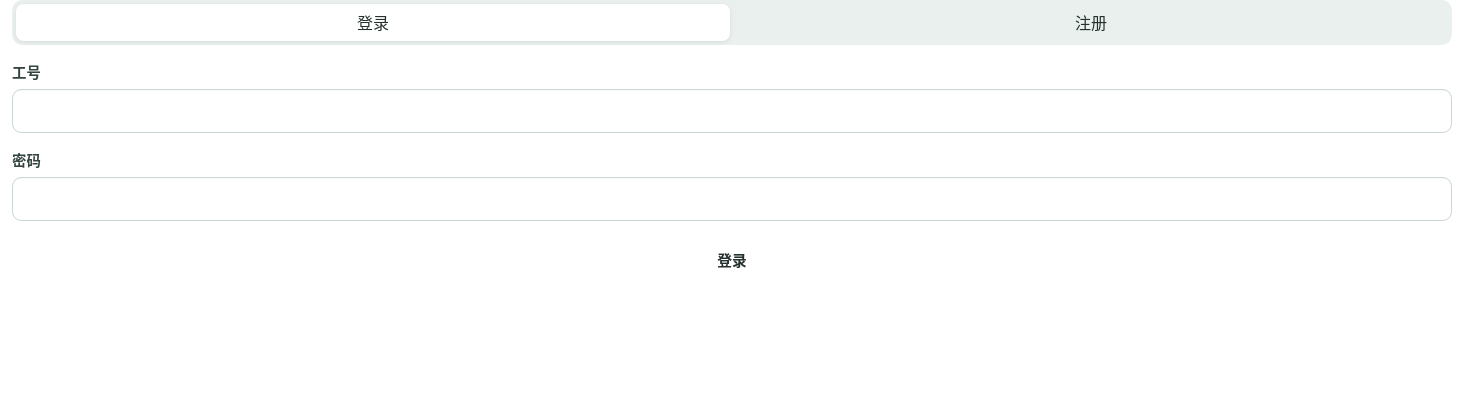
Test case: AuthAccessPanel › switches to login and pre-fills the employee ID after registration
Step 1. Click the tab "注册" → [1091, 22], box x1=734 y1=4 x2=1448 y2=41
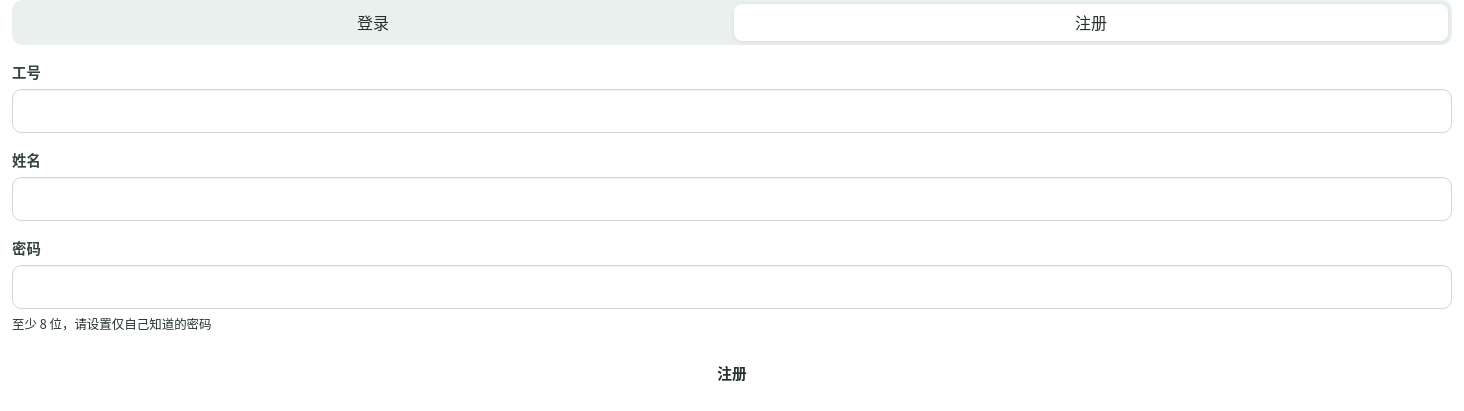
Step 2. Type "emp001" into the field labelled "工号" → [732, 111], box x1=12 y1=89 x2=1452 y2=133
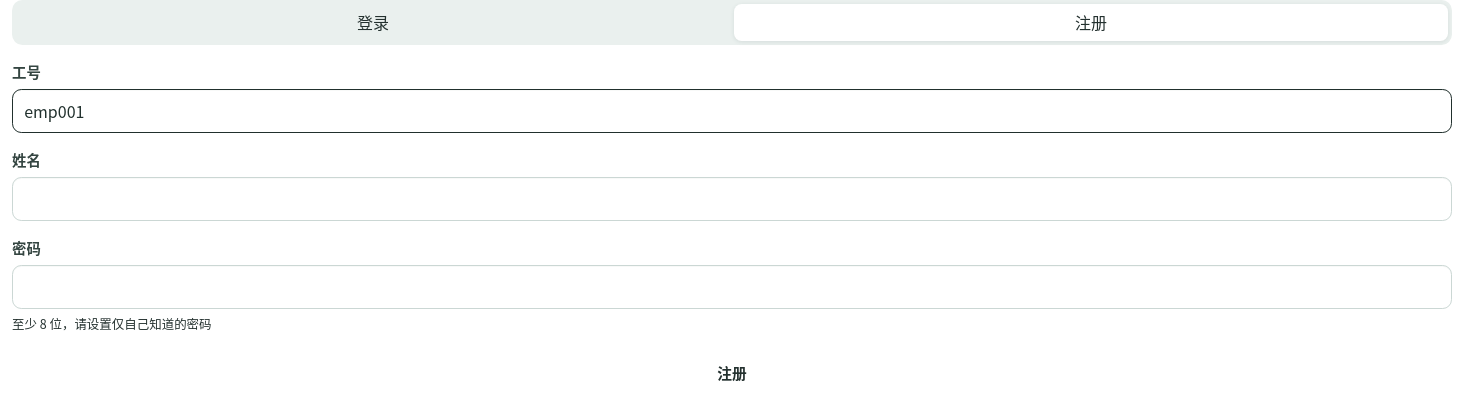
Step 3. Type "张三" into the field labelled "姓名" → [732, 199], box x1=12 y1=177 x2=1452 y2=221
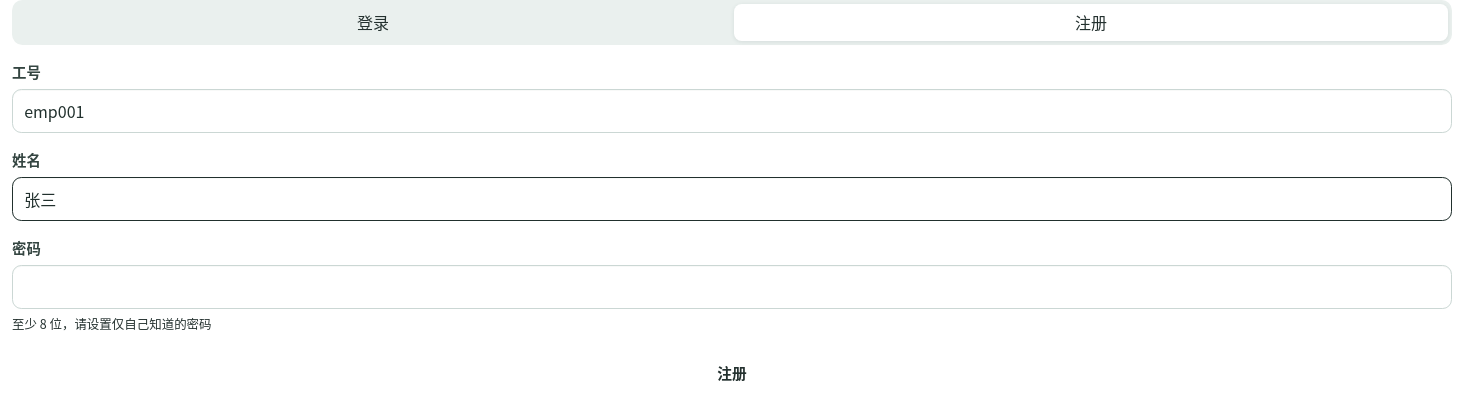
Step 4. Type "secret123" into the password field labelled "密码" → [732, 287], box x1=12 y1=265 x2=1452 y2=309
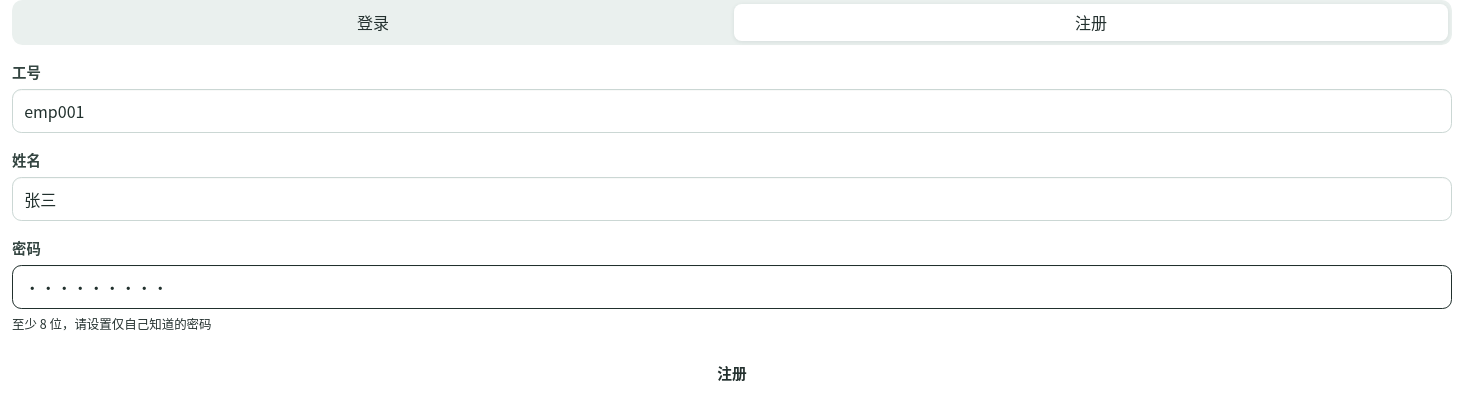
Step 5. Click the button "注册" → [732, 373], box x1=12 y1=352 x2=1452 y2=394
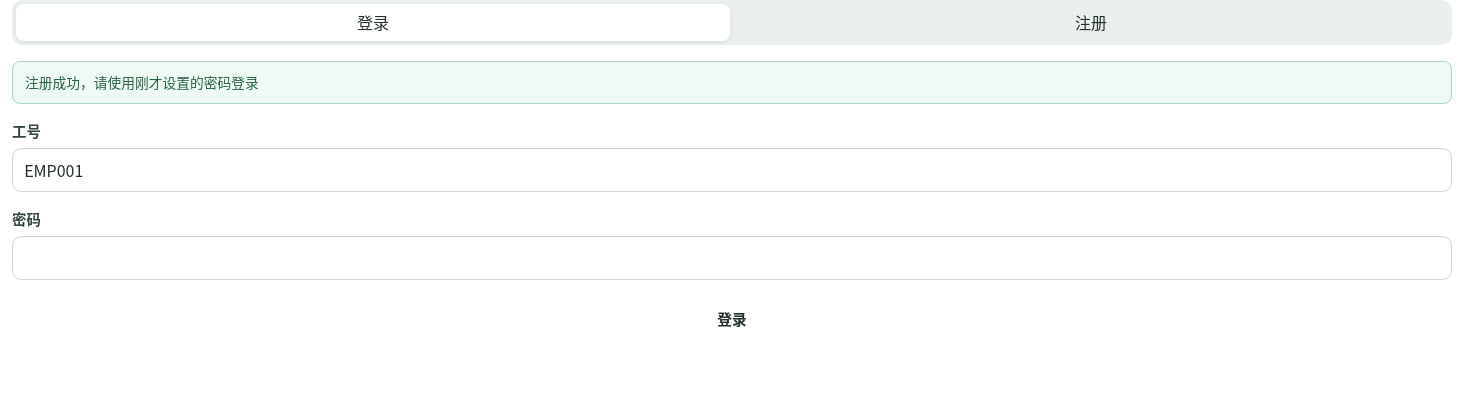
Expected: the message shows "注册成功", x1=25 y1=72 x2=259 y2=92
Expected: the field labelled "工号" holds "EMP001", x1=12 y1=148 x2=1452 y2=192
